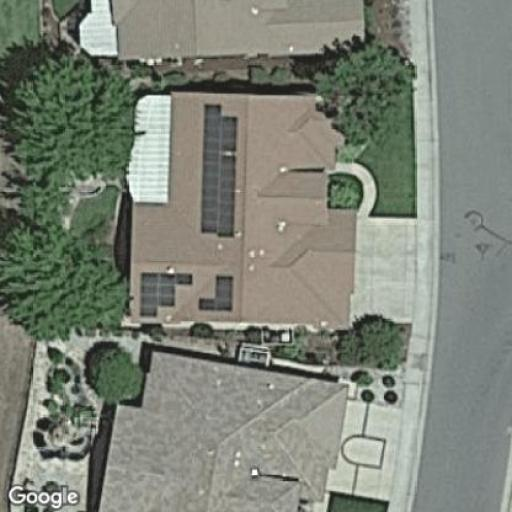solar-panel: (196, 102, 240, 240), (138, 270, 193, 320), (197, 271, 237, 314)
